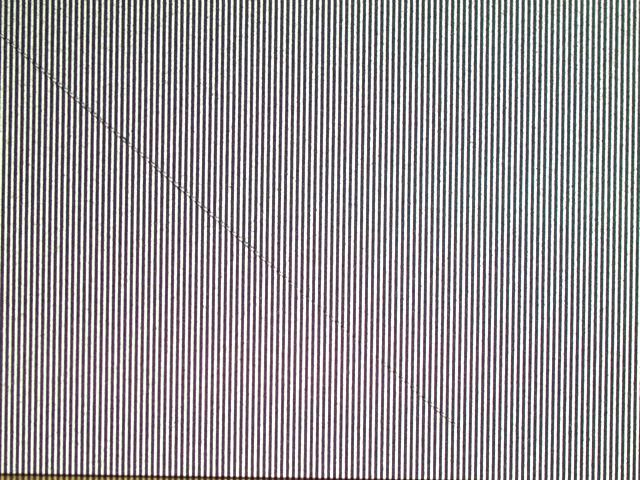SCRATCH: (1, 29, 474, 450)
